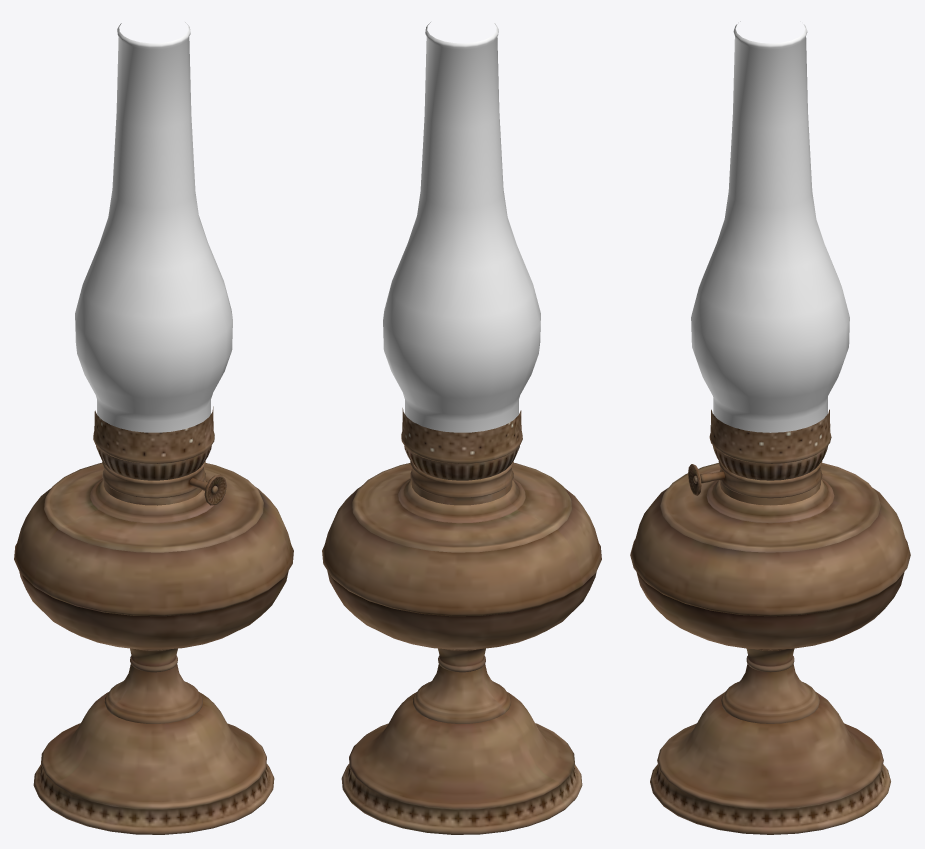
File: SM_oil_lamp_02_bdb1eb.glb
The picture shows the model from 3 angles, left to right: view 1: azimuth 30°, elevation 25°; view 2: azimuth 150°, elevation 25°; view 3: azimuth 270°, elevation 25°; orthographic projection.
Size of the model in its own units: 0.166 by 0.4935 by 0.166.
Materials: 2 (1 with a texture image).
